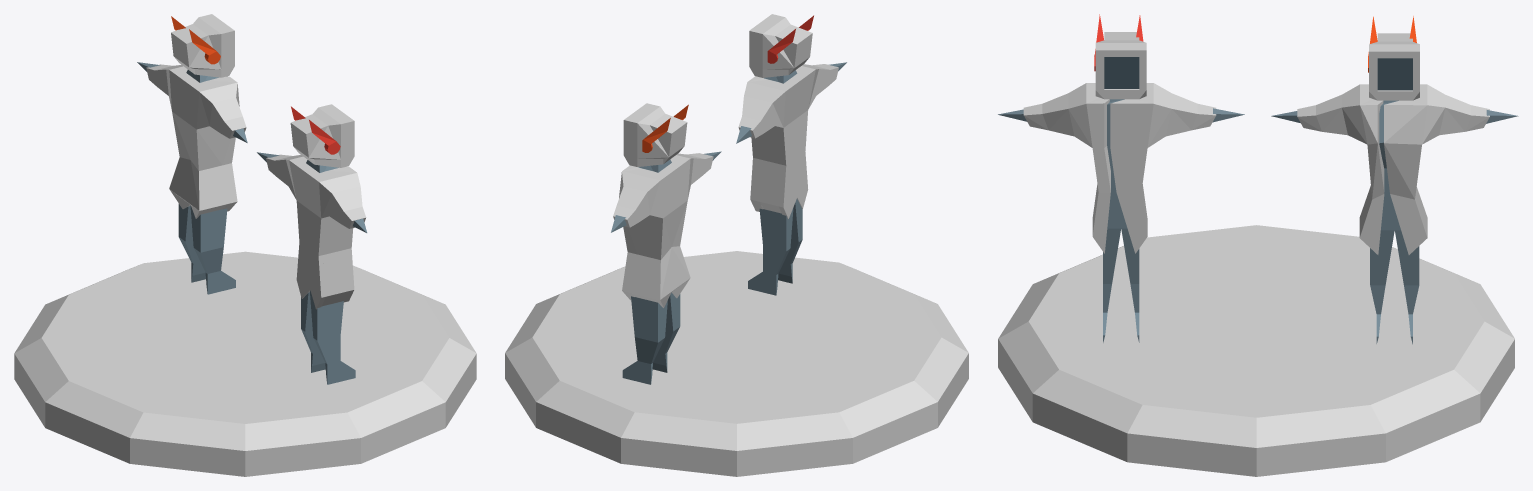
The model's file is scene_F8v7FyowMI.glb.
The picture shows the model from 3 angles, left to right: view 1: azimuth 30°, elevation 25°; view 2: azimuth 150°, elevation 25°; view 3: azimuth 270°, elevation 25°; orthographic projection. The views are drawn at different scales.
Parts seen in each view (by area): view 1: group14640396, group89123862, group1169595242; view 2: group14640396, group89123862, group1169595242; view 3: group14640396, group89123862, group1169595242.
Boxes of the visible parts, x1,y1,x2,y2 form: group14640396: [14, 251, 476, 476]; group89123862: [137, 14, 247, 294]; group1169595242: [257, 104, 367, 384]; group14640396: [505, 251, 968, 476]; group89123862: [611, 103, 721, 384]; group1169595242: [736, 14, 846, 295]; group14640396: [998, 225, 1514, 476]; group89123862: [1271, 16, 1518, 344]; group1169595242: [998, 14, 1244, 342].
Size of the model in its own units: 0.81 by 0.605 by 0.8178.
